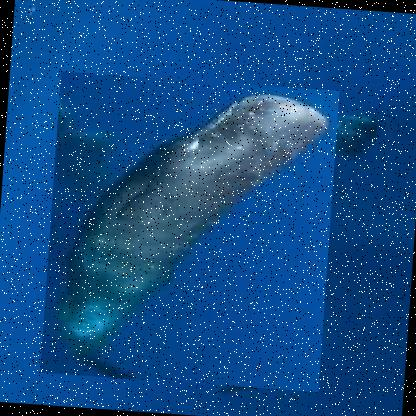sperm_whale: (40, 70, 340, 392)
